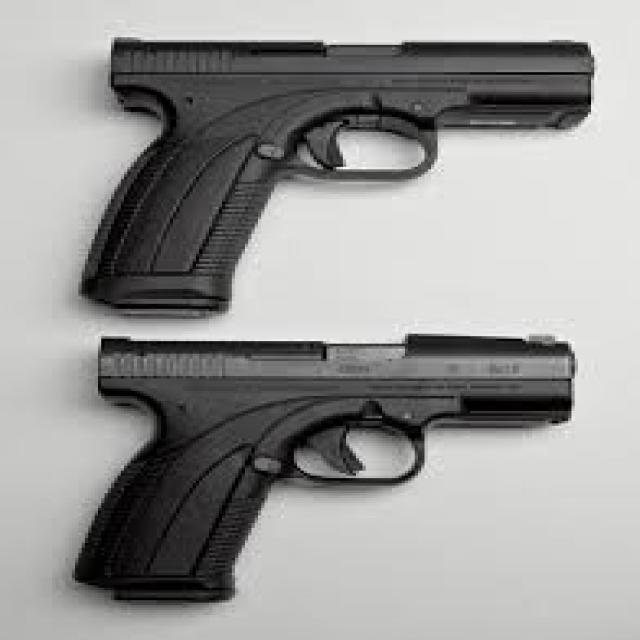Gun: (70, 1, 612, 335), (91, 340, 593, 611)
